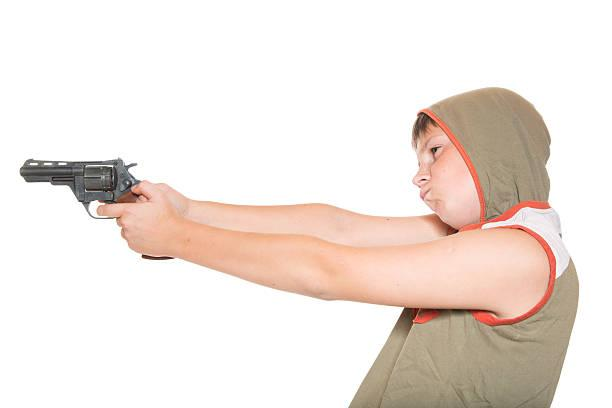weapon: (13, 145, 177, 264)
